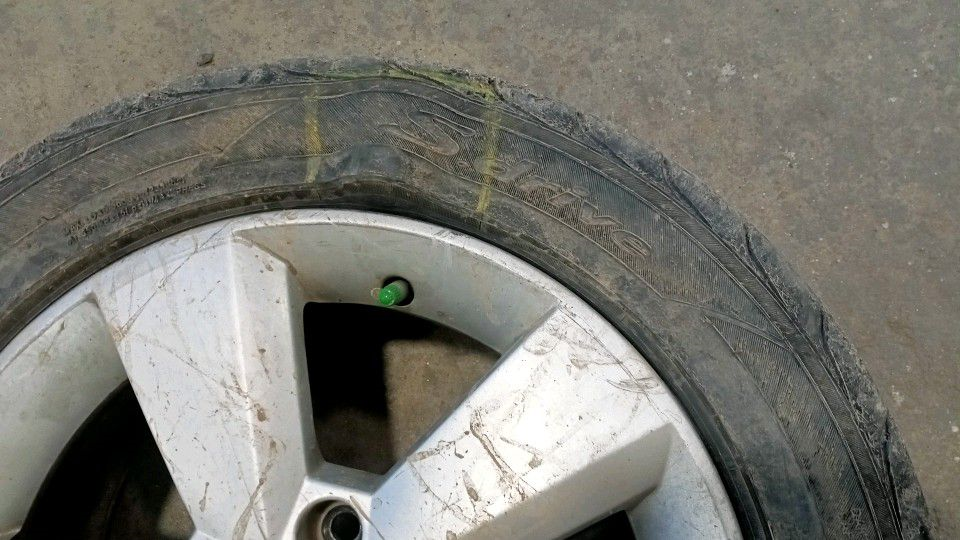CBU: (308, 72, 472, 210)
